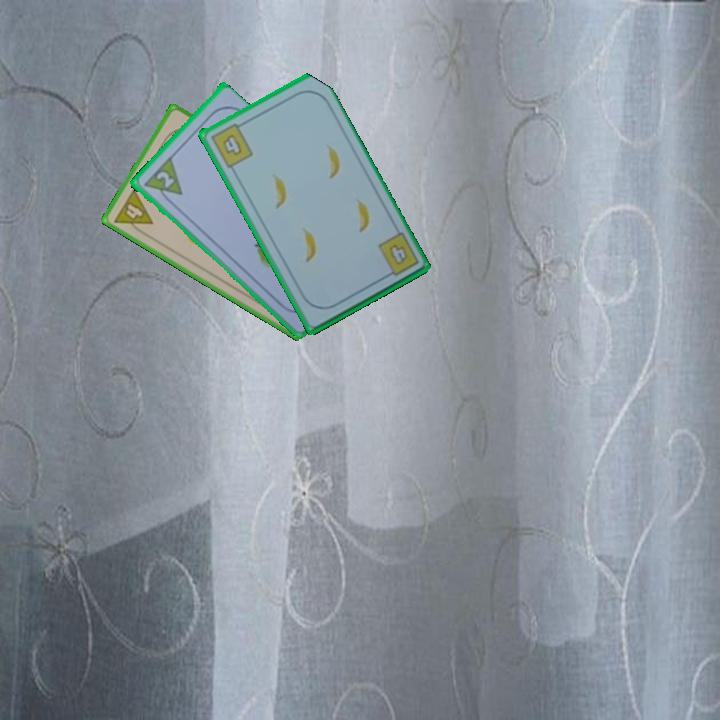2p: (152, 167, 177, 191)
4b: (206, 118, 255, 171), (374, 229, 422, 282)
4p: (110, 185, 156, 239)
